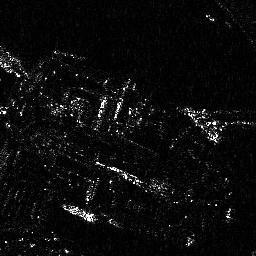ship: (62, 203, 98, 223)
